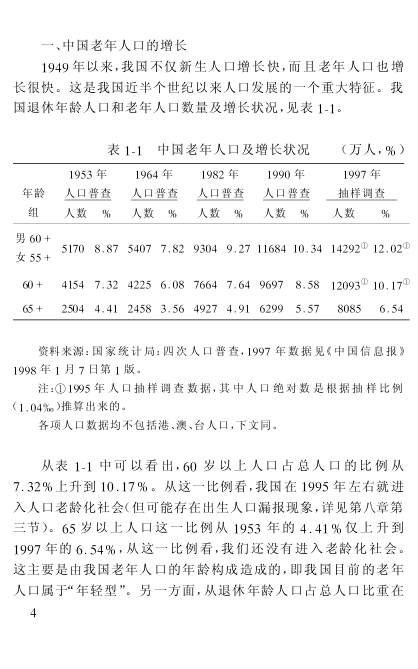table: (12, 162, 410, 321)
